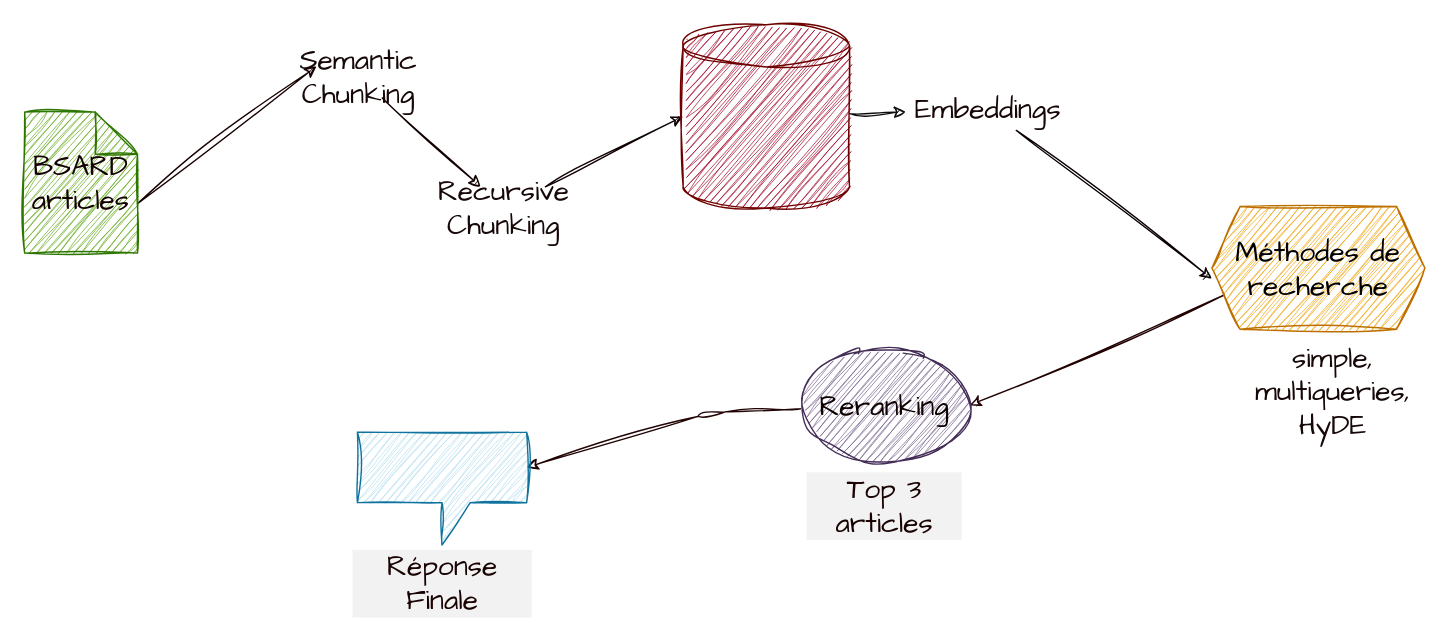
Image size: 1449x643. Some labels were removed from this diagram. The centre of each missing label's shape, as x and y in pixels:
"LLM" goes at point 441,488.
"Milvus VectorDB" goes at point 766,115.
